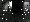person: (6, 3, 12, 15), (25, 4, 30, 15)
